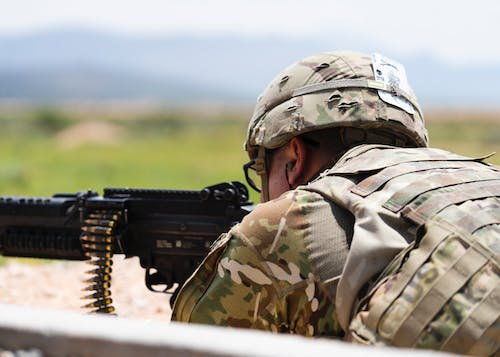gun: (0, 175, 257, 296)
